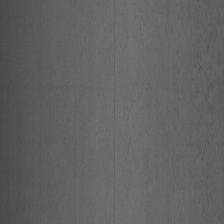silk_spot: (124, 8, 216, 212)
